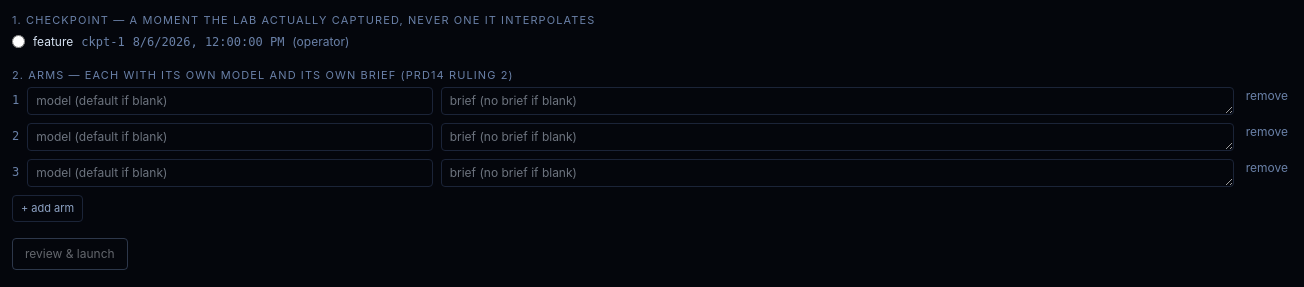
Test: LaunchPanel › disables "review & launch" until a checkpoint is selected
Check: the button with test id "launch-review" is disabled, box 12,238 -> 128,270
Click the radio button labelled "feature ckpt-1 8/6/2026, 12:00:00 PM (operator)" at coordinates (18, 42), box 12,35 -> 25,48
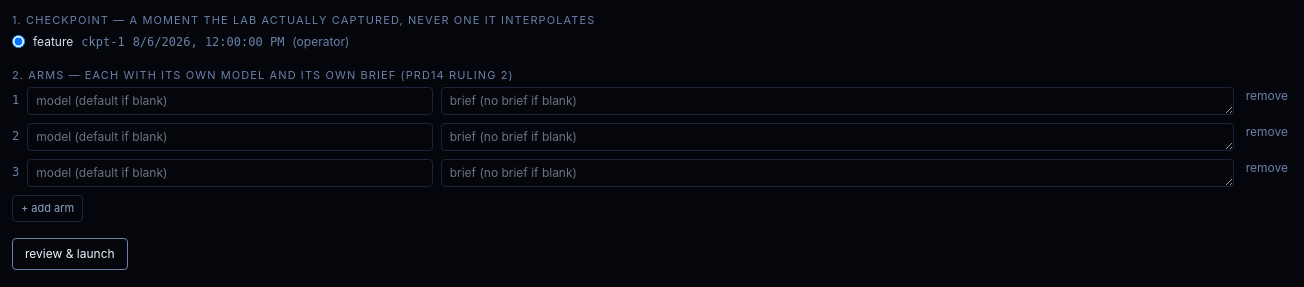
Check: the button with test id "launch-review" is enabled, box 12,238 -> 128,270
